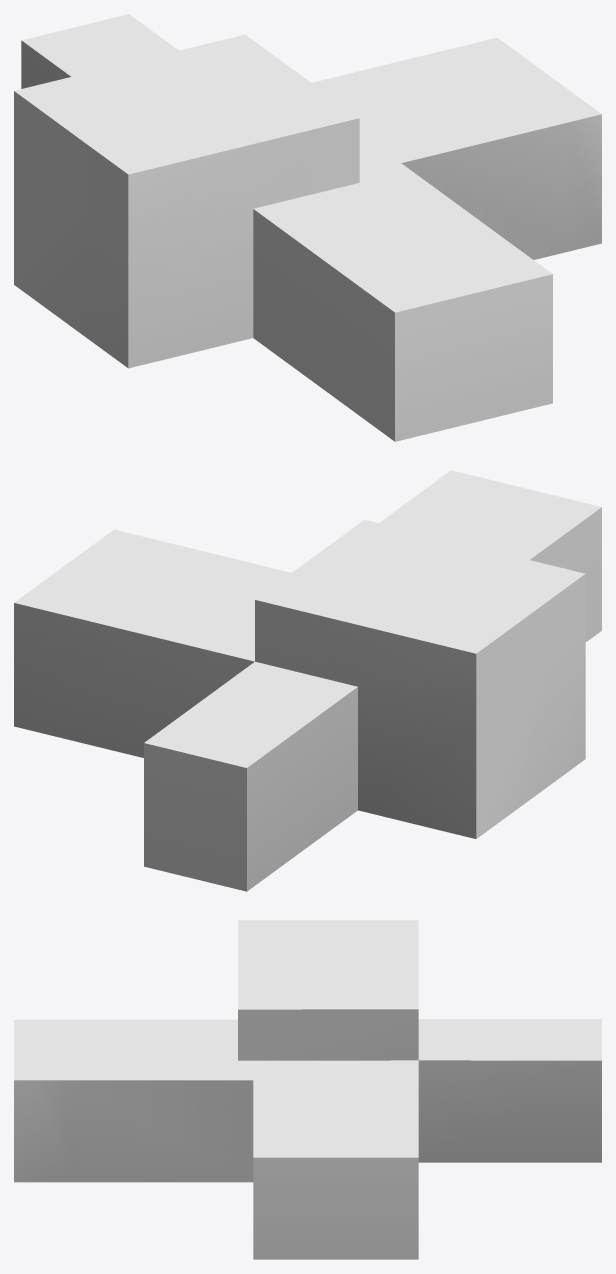
The model's file is etageV1.1No4.dae.
The picture shows the model from 3 angles, top to bottom: view 1: azimuth 30°, elevation 25°; view 2: azimuth 150°, elevation 25°; view 3: azimuth 270°, elevation 25°; orthographic projection. The views are drawn at different scales.
Parts seen in each view (by area): view 1: Mesh_004; view 2: Mesh_004; view 3: Mesh_004.
Boxes of the visible parts, bbox=[...] form: Mesh_004: bbox=[14, 14, 601, 441]; Mesh_004: bbox=[14, 470, 601, 891]; Mesh_004: bbox=[14, 920, 601, 1259].
Size of the model in its own units: 7.33 by 9.79 by 2.81.
3 materials, 3 textured.
